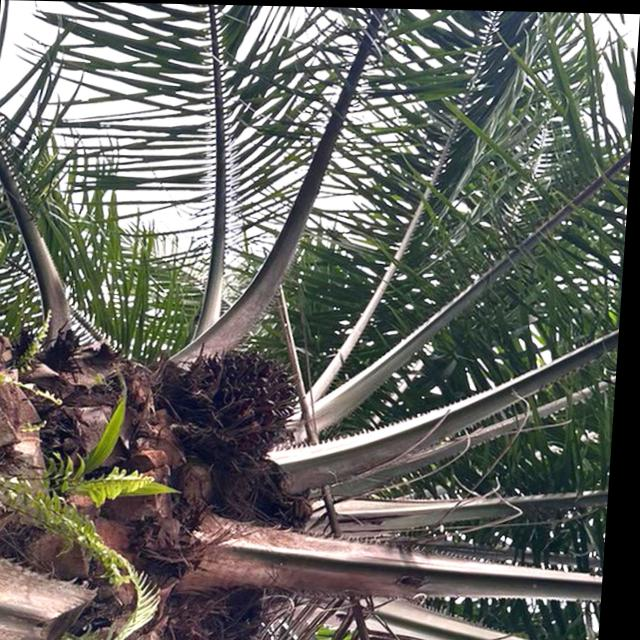ripe: (189, 344, 308, 458)
